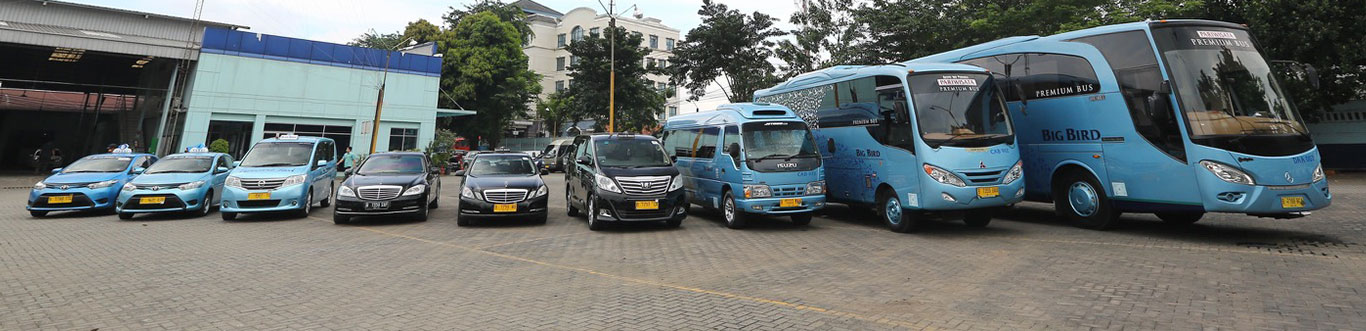plate: (975, 185, 1005, 196), (1284, 195, 1306, 208), (637, 199, 659, 211), (48, 195, 72, 206), (365, 199, 386, 210), (248, 191, 270, 201), (780, 197, 802, 206), (494, 204, 516, 213), (141, 196, 164, 203)
